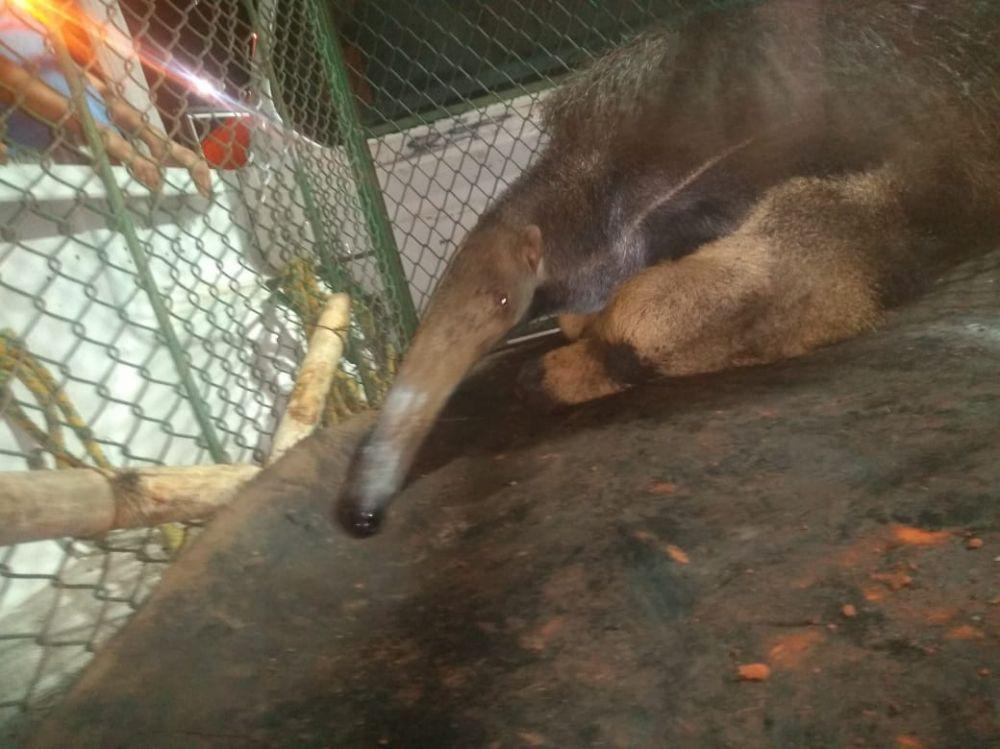TamanduaBandeira: (332, 10, 975, 545)
